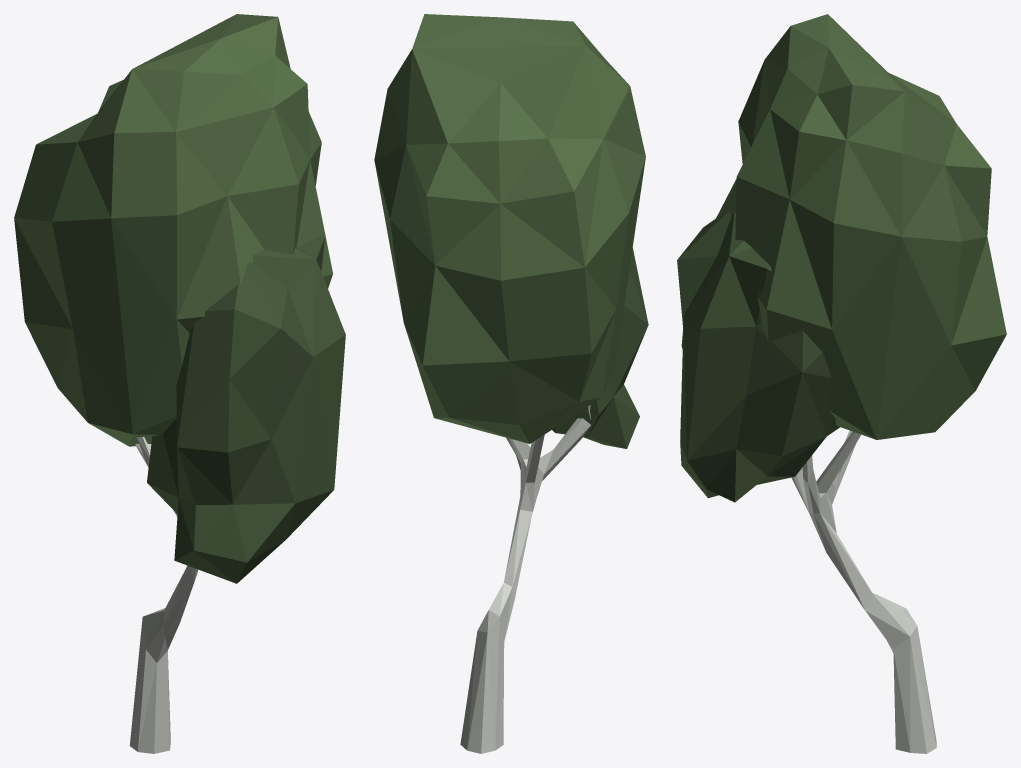
File: BirchTree_2.lod2.glb
3 views of the same model, side by side, from view 1: azimuth 30°, elevation 25°; view 2: azimuth 150°, elevation 25°; view 3: azimuth 270°, elevation 25° (orthographic). The views are drawn at different scales.
Parts seen in each view (by area): view 1: BirchTree_2; view 2: BirchTree_2; view 3: BirchTree_2.
Part boxes in pixels (<box>): BirchTree_2: <box>14,14,345,753</box>; BirchTree_2: <box>374,14,648,753</box>; BirchTree_2: <box>677,14,1006,753</box>.
Bounding box in the file's own units: 1.47 × 4.03 × 1.7.
